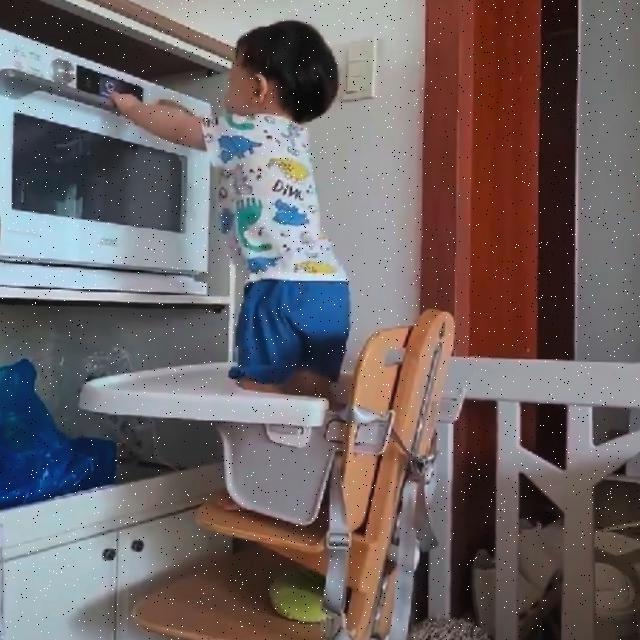child: (118, 18, 341, 515)
